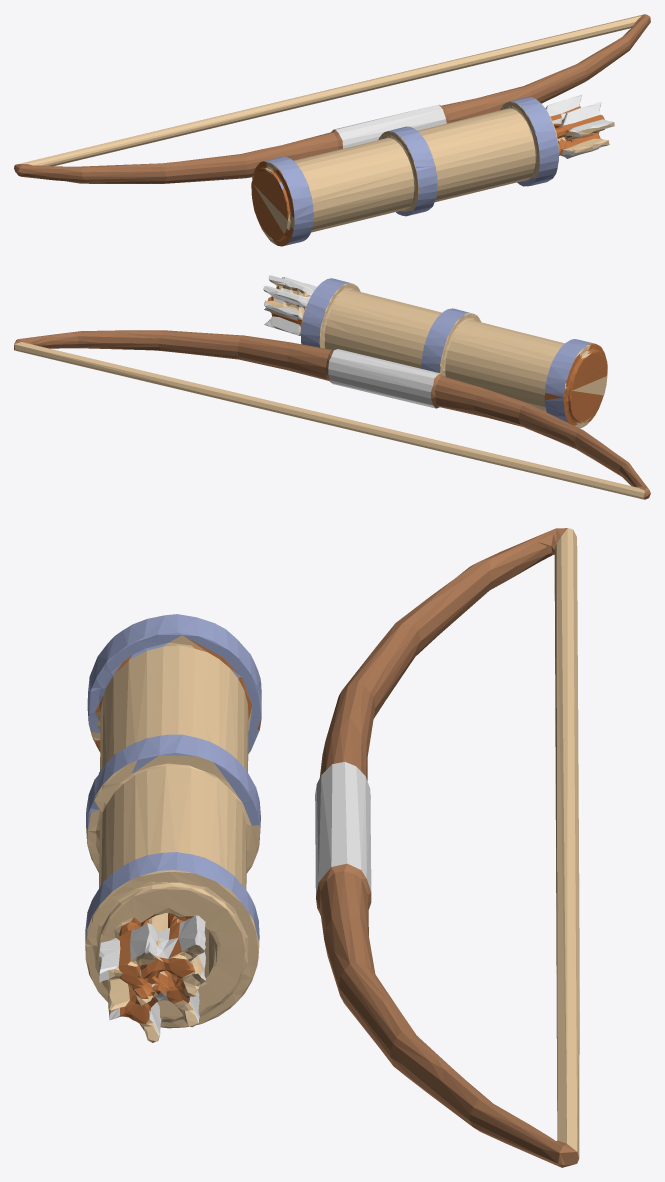
Rendered from Viking_Bow.fbx.
3 renders of one model, top to bottom at view 1: azimuth 30°, elevation 25°; view 2: azimuth 150°, elevation 25°; view 3: azimuth 270°, elevation 25°, orthographic. The views are drawn at different scales.
Parts seen in each view (by area): view 1: Bow; view 2: Bow; view 3: Bow.
Boxes of the visible parts, x1,y1,x2,y2 form: Bow: [14, 14, 650, 246]; Bow: [14, 275, 650, 499]; Bow: [85, 528, 579, 1167].
Size of the model in its own units: 1980 by 238 by 669.
